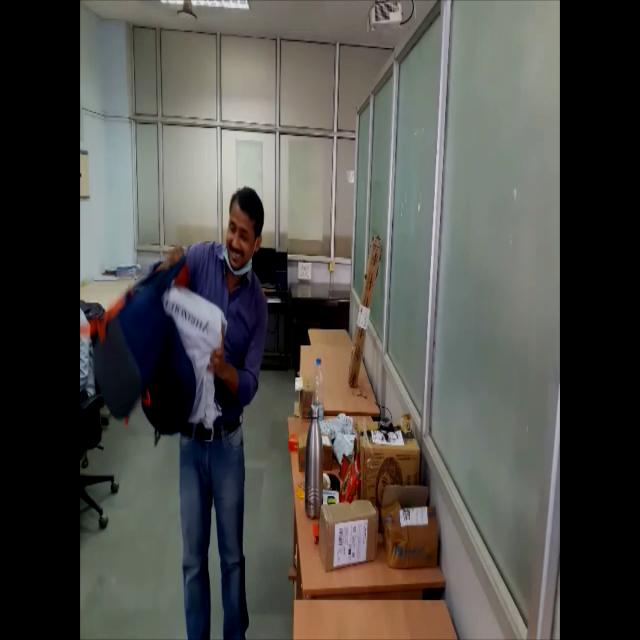shoplifting: (95, 185, 272, 640)
